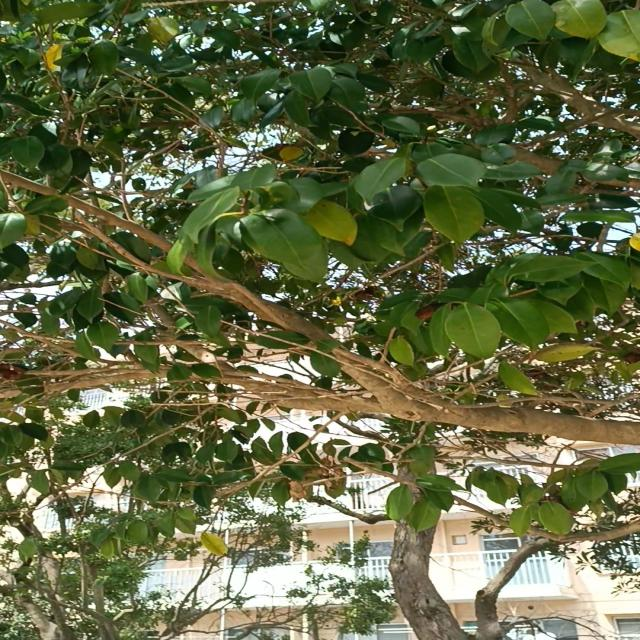Branch: (377, 399, 640, 445)
Twig: (0, 169, 408, 398), (120, 270, 382, 413), (73, 210, 212, 287), (23, 369, 213, 392)
